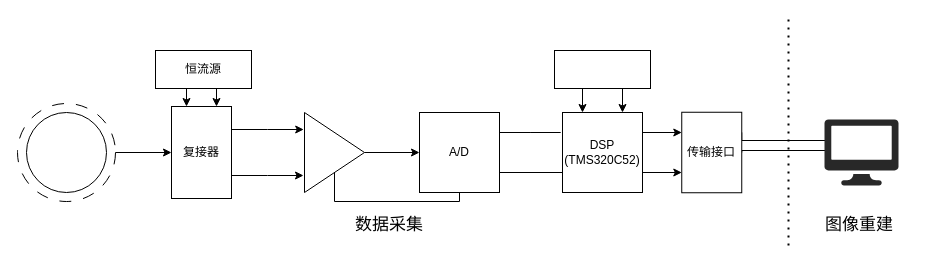
The diagram is 925 pixels wide and 264 high, and some of its shapes have lost their labels. The shapes that lost their labels are listed below. From the top down, each one's centre as x and y in pixels, then its label:
At pixel 602 69: "RAM".
At pixel 334 152: "放大".
